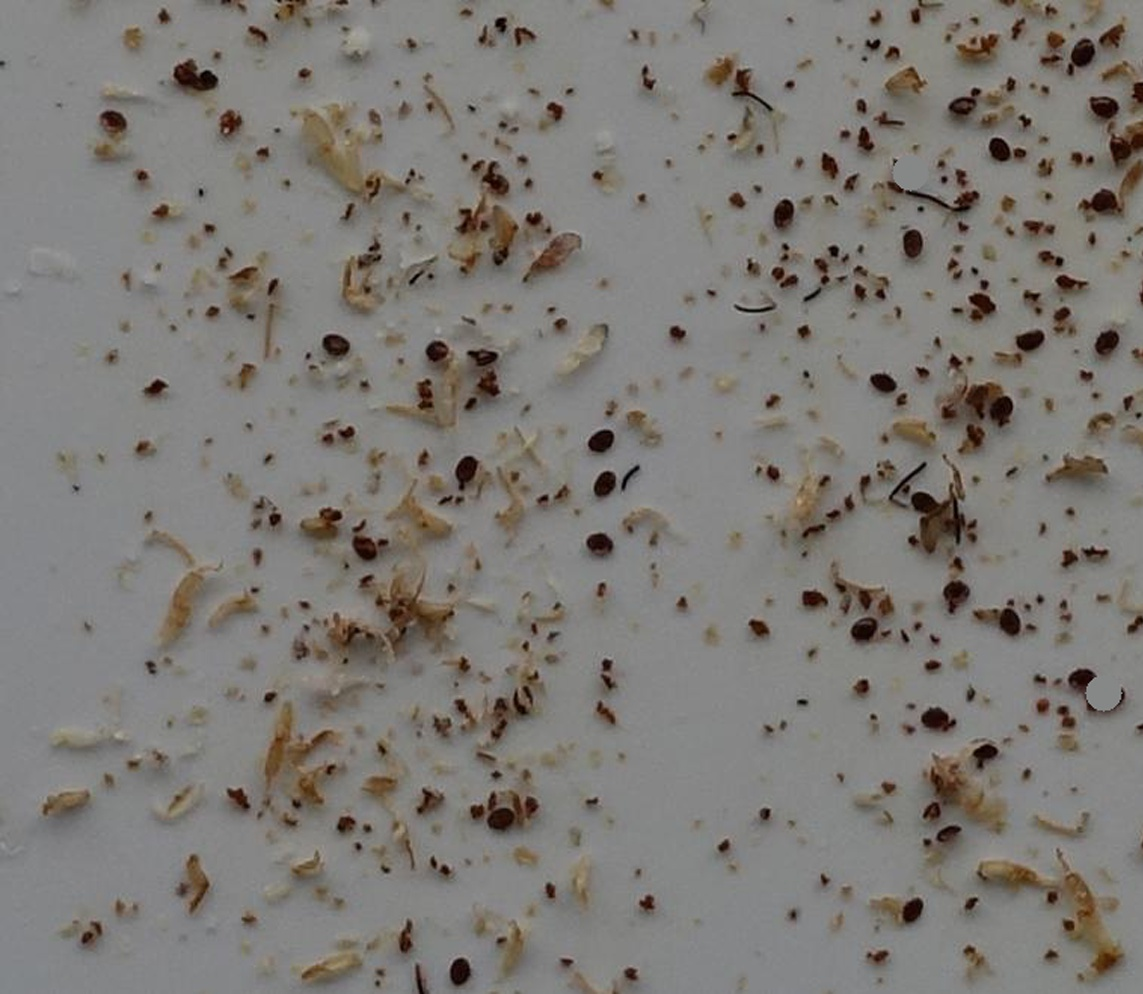Varroa: (473, 163, 517, 206), (947, 92, 980, 124), (921, 703, 952, 733), (894, 898, 923, 928), (909, 484, 937, 514), (1089, 93, 1117, 120), (1088, 195, 1115, 223), (899, 225, 925, 253), (942, 575, 968, 602), (1020, 329, 1046, 356), (591, 472, 616, 500), (101, 107, 127, 133), (1066, 666, 1092, 692), (587, 526, 612, 553), (1093, 322, 1118, 349), (845, 619, 870, 645), (321, 330, 346, 356), (1073, 36, 1097, 63), (993, 616, 1018, 641), (445, 953, 469, 979), (995, 395, 1019, 421), (453, 460, 477, 485), (427, 339, 451, 363), (352, 537, 376, 561), (484, 803, 508, 827), (589, 428, 612, 452), (873, 376, 896, 399), (993, 139, 1015, 162), (774, 205, 796, 228), (1107, 136, 1129, 158), (1115, 684, 1131, 713)
